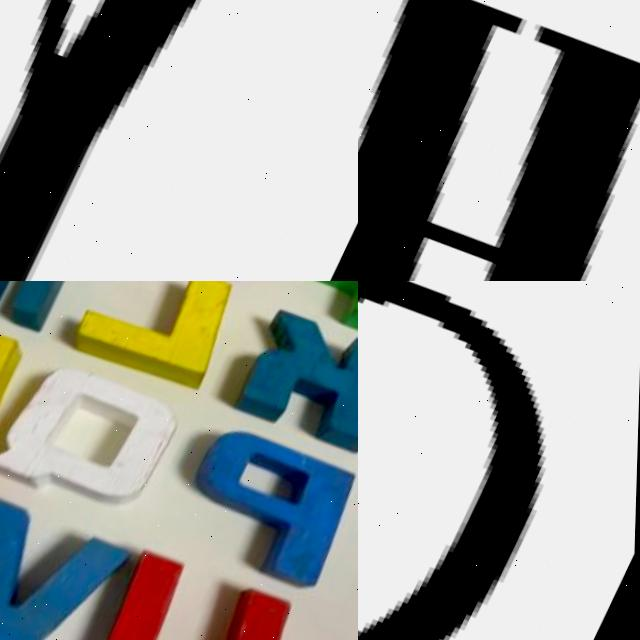F: (273, 281, 358, 346)
H: (358, 0, 640, 281)
K: (230, 303, 358, 476)
L: (70, 281, 243, 411)
P: (171, 421, 358, 610)
Q: (358, 281, 629, 640), (0, 346, 189, 543)
U: (83, 537, 314, 640)
V: (0, 485, 136, 640)
Y: (0, 0, 276, 281)
